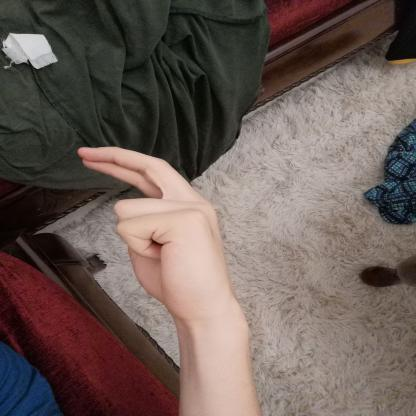ZAY: (63, 138, 248, 334)
